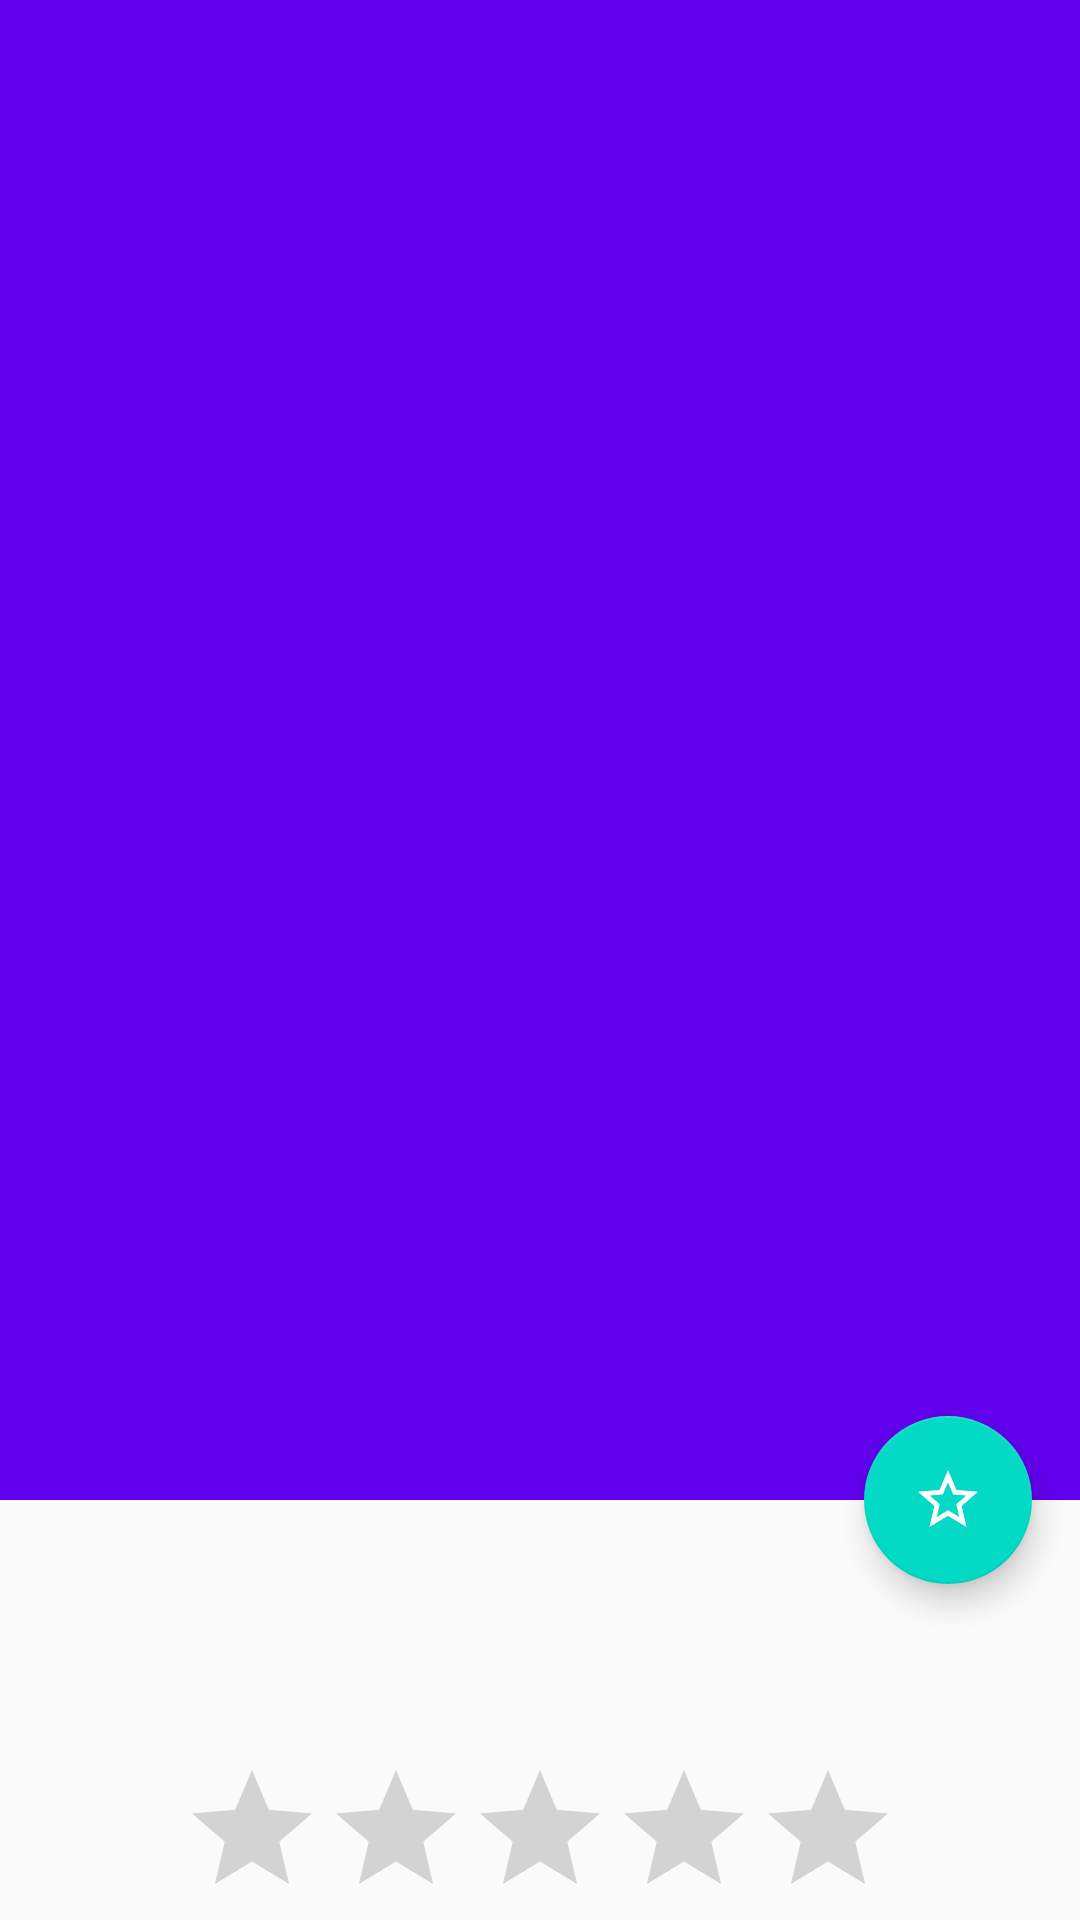

Icons on this 1080*1920 Android screen, each with the point to tap as point (x, y):
favourite: point (948, 1500)
